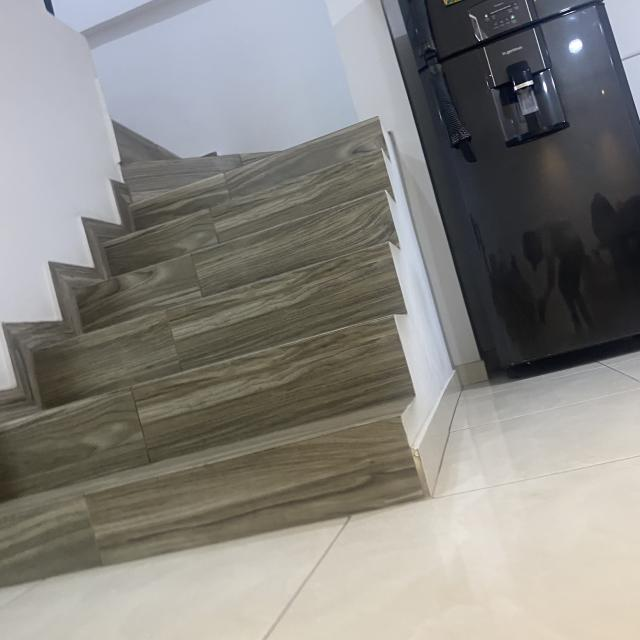obstacle: (400, 0, 638, 380)
stair: (1, 96, 429, 586)
